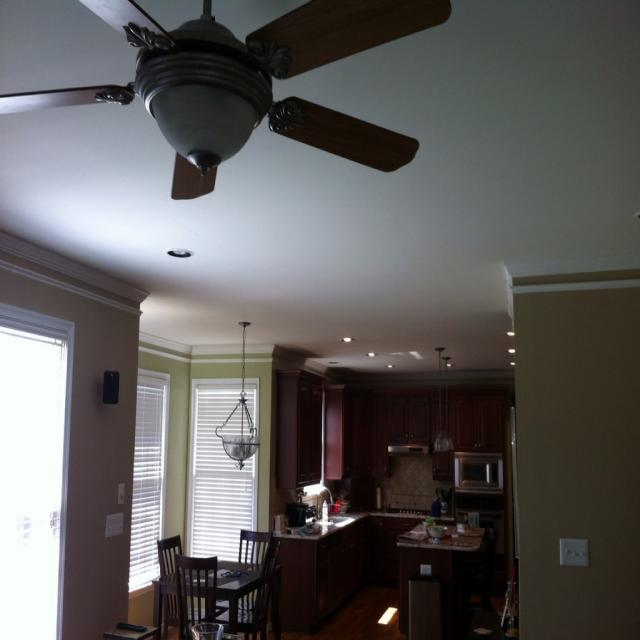bulb_off: (152, 79, 258, 170)
fan_off: (0, 1, 466, 203)
